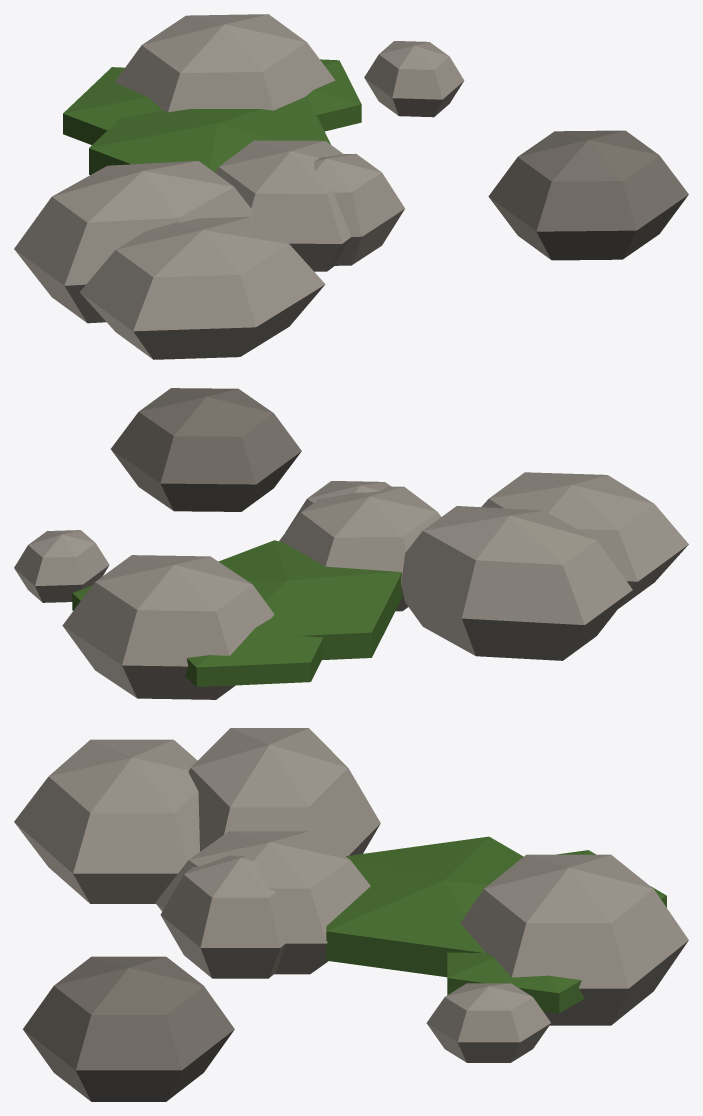
The model's file is loose_stones_mossy.glb.
The picture shows the model from 3 angles, top to bottom: view 1: azimuth 30°, elevation 25°; view 2: azimuth 150°, elevation 25°; view 3: azimuth 270°, elevation 25°; orthographic projection. The views are drawn at different scales.
Parts seen in each view (by area): view 1: scatter_rocks_mossy_small; view 2: scatter_rocks_mossy_small; view 3: scatter_rocks_mossy_small.
Part boxes in pixels (left/top/right/bottom): scatter_rocks_mossy_small: left=14, top=14, right=688, bottom=359; scatter_rocks_mossy_small: left=14, top=388, right=688, bottom=699; scatter_rocks_mossy_small: left=14, top=728, right=688, bottom=1101.
Size of the model in its own units: 1.85 by 0.4485 by 1.75.
